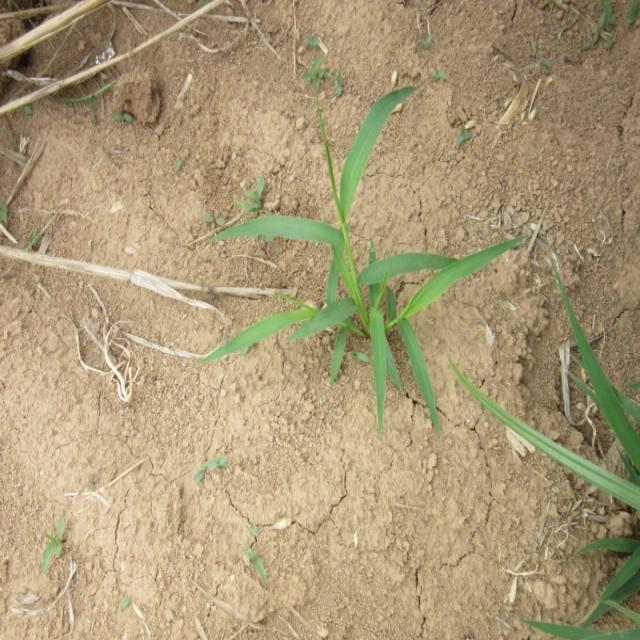bg: (202, 84, 514, 433)
